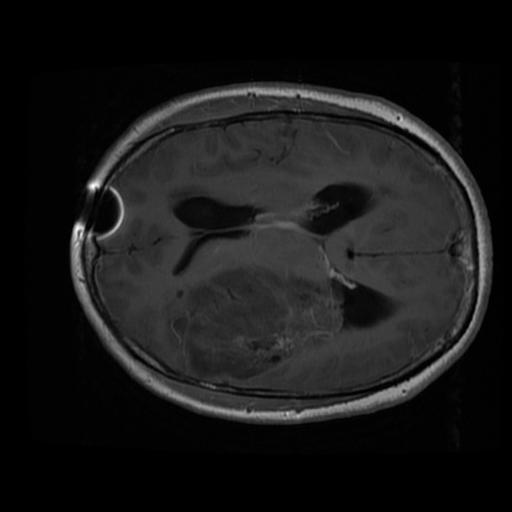glioma: (166, 264, 339, 380)
